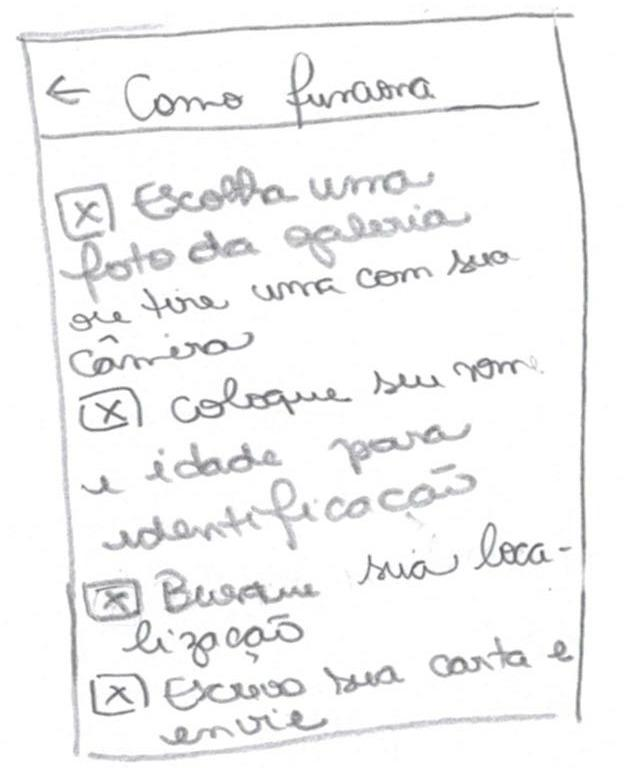Button: (44, 74, 91, 106)
CheckBox: (50, 158, 521, 384), (71, 352, 543, 566), (80, 522, 580, 656), (85, 635, 582, 747)
Label: (123, 50, 436, 122)
Screen: (20, 12, 588, 758)
